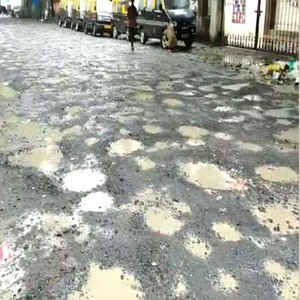pothole: (3, 115, 63, 179), (180, 155, 250, 194), (63, 162, 113, 193), (140, 203, 183, 236), (255, 158, 298, 190), (172, 120, 209, 144), (103, 135, 145, 154)
